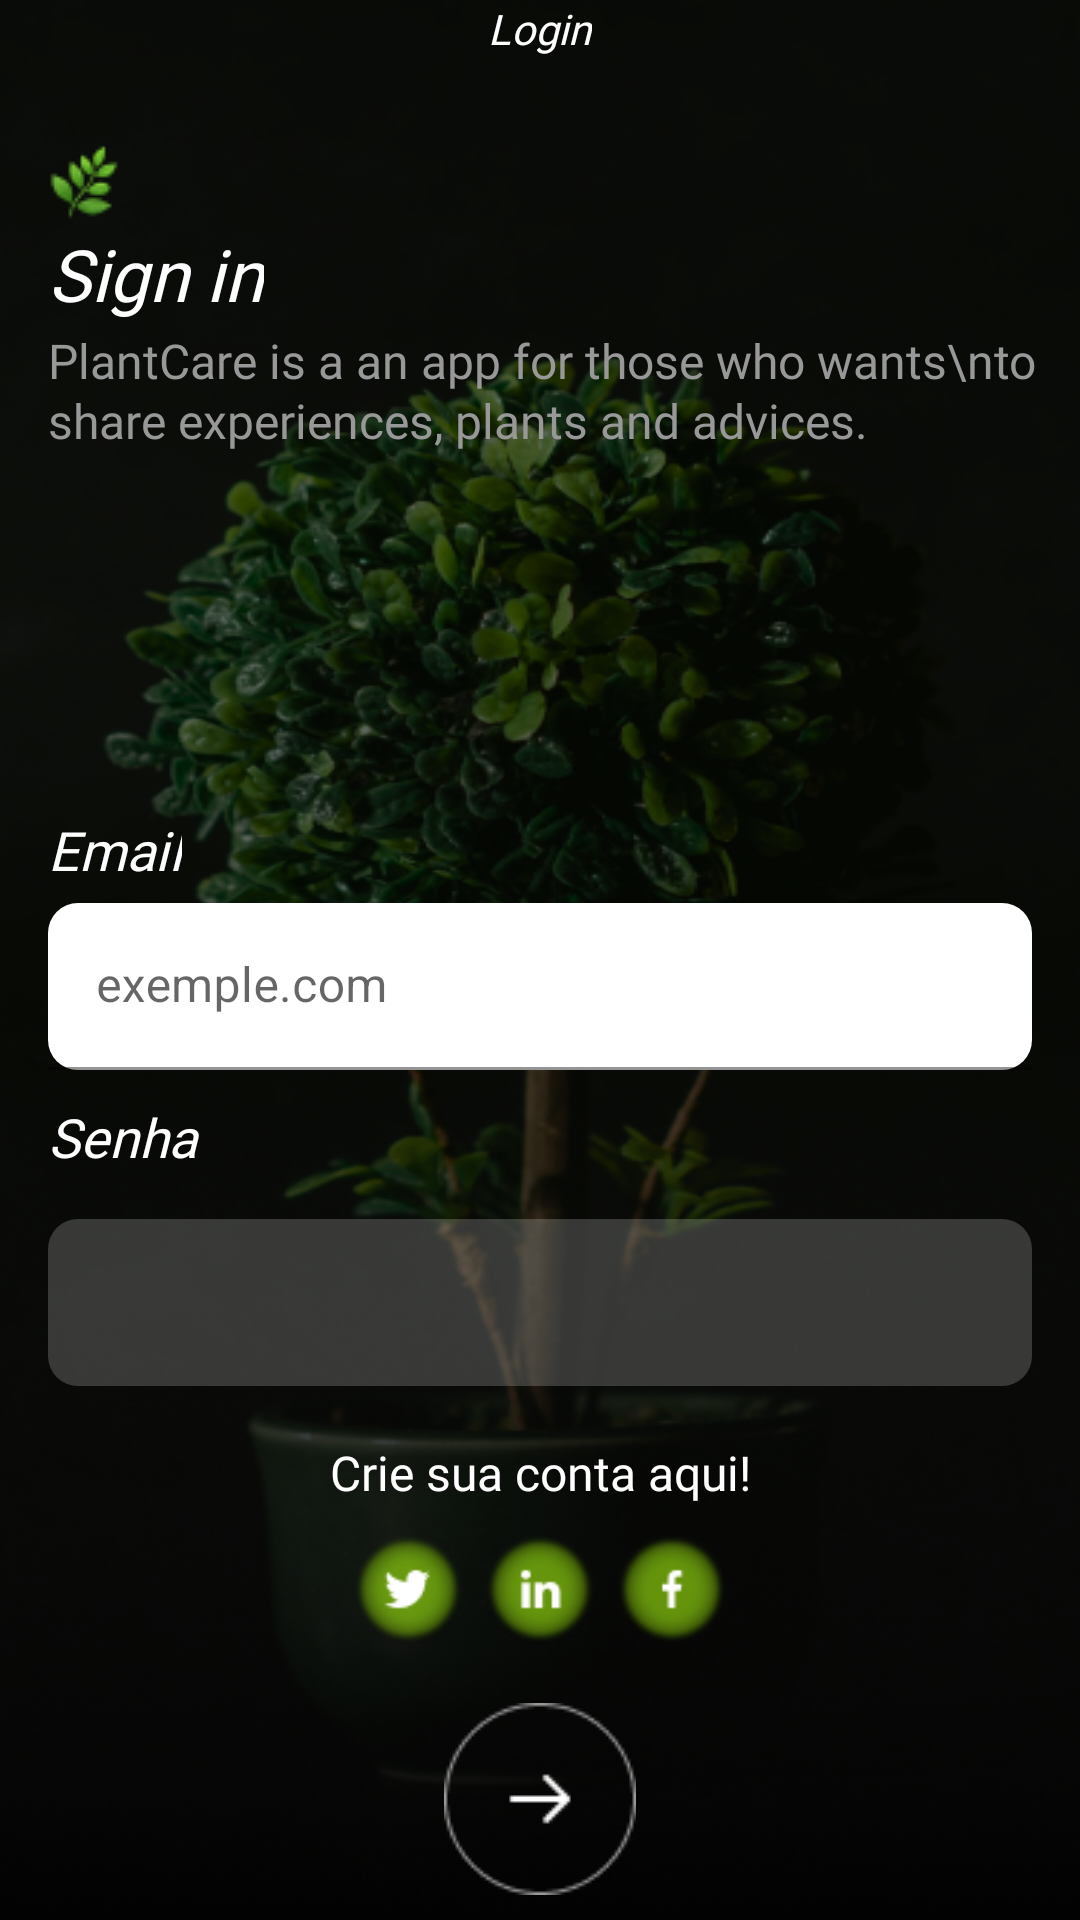

Point at icon controls on the screen. Image size 1080w x 1920h, points as point (x, y).
bgn entrar: point (540, 1799)
folha login: point (84, 181)
